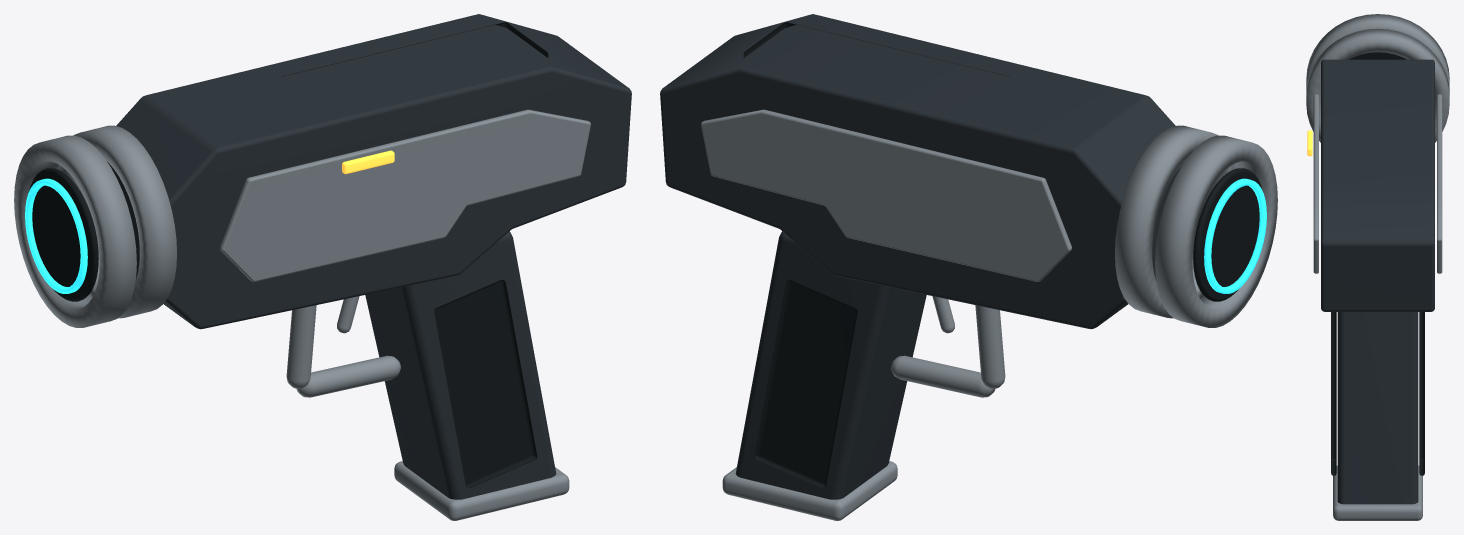
File: ZH_PROP_TOOL_PulseEmitter.fbx
3 renders of one model, left to right at view 1: azimuth 30°, elevation 25°; view 2: azimuth 150°, elevation 25°; view 3: azimuth 270°, elevation 25°, orthographic. The views are drawn at different scales.
Parts seen in each view (by area): view 1: Pulse | swept receiver.001, Pulse | machined cheek.002, Pulse | grip core.001, Pulse | grip rubber.002, Pulse | emitter collar.002, Pulse | emitter collar.003, Pulse | recessed aperture.001, Pulse | heel.002, Pulse | trigger guard.003, Pulse | aperture light.001, Pulse | trigger guard.002, Pulse | status.001; view 2: Pulse | swept receiver.001, Pulse | machined cheek.003, Pulse | grip core.001, Pulse | grip rubber.003, Pulse | emitter collar.002, Pulse | emitter collar.003, Pulse | recessed aperture.001, Pulse | heel.002, Pulse | trigger guard.003, Pulse | aperture light.001, Pulse | trigger guard.002; view 3: Pulse | swept receiver.001, Pulse | grip core.001, Pulse | emitter collar.003, Pulse | emitter collar.002, Pulse | heel.002, Pulse | machined cheek.002, Pulse | machined cheek.003, Pulse | grip rubber.002, Pulse | grip rubber.003, Pulse | recessed aperture.001.
Boxes of the visible parts, bbox=[...] form: Pulse | swept receiver.001: bbox=[107, 14, 631, 329]; Pulse | machined cheek.002: bbox=[220, 109, 590, 281]; Pulse | grip core.001: bbox=[365, 231, 556, 499]; Pulse | grip rubber.002: bbox=[434, 280, 537, 488]; Pulse | emitter collar.002: bbox=[14, 135, 136, 327]; Pulse | emitter collar.003: bbox=[57, 125, 176, 318]; Pulse | recessed aperture.001: bbox=[29, 168, 98, 301]; Pulse | heel.002: bbox=[394, 461, 569, 520]; Pulse | trigger guard.003: bbox=[296, 355, 400, 397]; Pulse | aperture light.001: bbox=[25, 178, 87, 293]; Pulse | trigger guard.002: bbox=[286, 305, 316, 388]; Pulse | status.001: bbox=[342, 150, 394, 173]; Pulse | swept receiver.001: bbox=[660, 14, 1184, 329]; Pulse | machined cheek.003: bbox=[701, 109, 1071, 281]; Pulse | grip core.001: bbox=[735, 231, 926, 499]; Pulse | grip rubber.003: bbox=[754, 280, 857, 488]; Pulse | emitter collar.002: bbox=[1155, 135, 1277, 327]; Pulse | emitter collar.003: bbox=[1115, 125, 1234, 318]; Pulse | recessed aperture.001: bbox=[1193, 168, 1262, 301]; Pulse | heel.002: bbox=[722, 461, 897, 520]; Pulse | trigger guard.003: bbox=[891, 355, 995, 397]; Pulse | aperture light.001: bbox=[1204, 178, 1266, 293]; Pulse | trigger guard.002: bbox=[975, 305, 1005, 388]; Pulse | swept receiver.001: bbox=[1321, 59, 1434, 311]; Pulse | grip core.001: bbox=[1337, 312, 1418, 504]; Pulse | emitter collar.003: bbox=[1306, 28, 1449, 142]; Pulse | emitter collar.002: bbox=[1306, 14, 1449, 90]; Pulse | heel.002: bbox=[1333, 465, 1422, 520]; Pulse | machined cheek.002: bbox=[1313, 94, 1318, 273]; Pulse | machined cheek.003: bbox=[1437, 94, 1442, 273]; Pulse | grip rubber.002: bbox=[1331, 312, 1336, 475]; Pulse | grip rubber.003: bbox=[1419, 312, 1424, 475]; Pulse | recessed aperture.001: bbox=[1349, 52, 1406, 59].
Size of the model in its own units: 0.3728 by 0.2908 by 0.1137.
